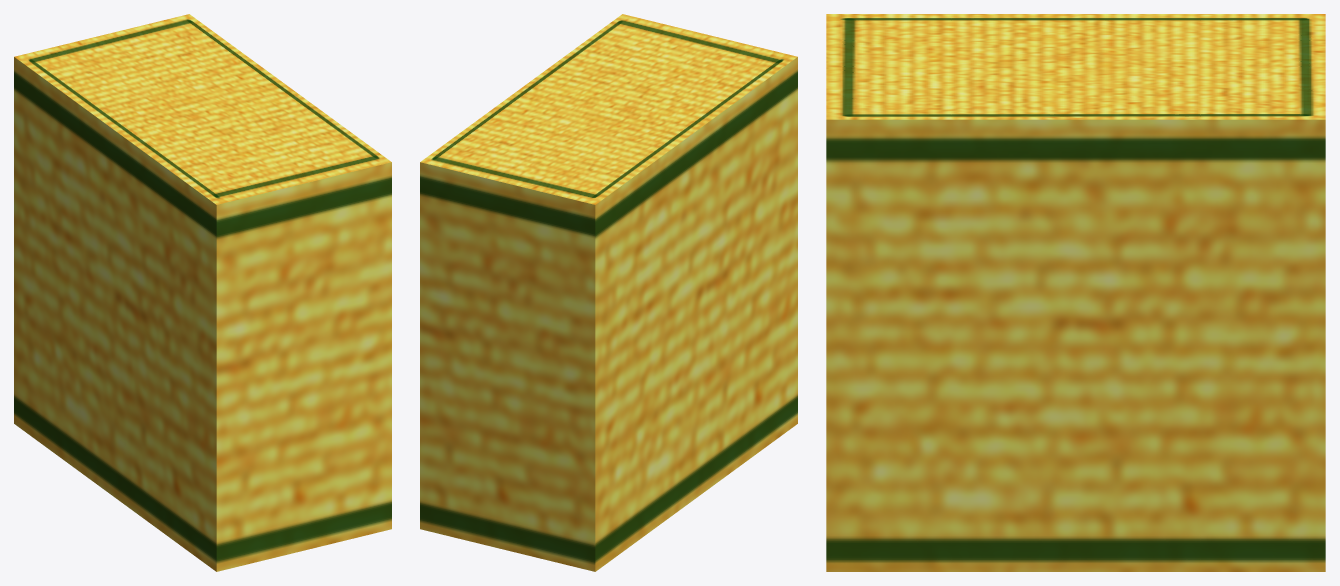
File: 4x2 Generic.fbx
The picture shows the model from 3 angles, left to right: view 1: azimuth 30°, elevation 25°; view 2: azimuth 150°, elevation 25°; view 3: azimuth 270°, elevation 25°; orthographic projection. The views are drawn at different scales.
Parts seen in each view (by area): view 1: 4x2 Generic; view 2: 4x2 Generic; view 3: 4x2 Generic.
Part boxes in pixels (left/top/right/bottom): 4x2 Generic: left=14, top=14, right=391, bottom=571; 4x2 Generic: left=420, top=14, right=797, bottom=571; 4x2 Generic: left=826, top=14, right=1325, bottom=571.
Bounding box in the file's own units: 200 × 400 × 400.
1 material, 1 textured.
